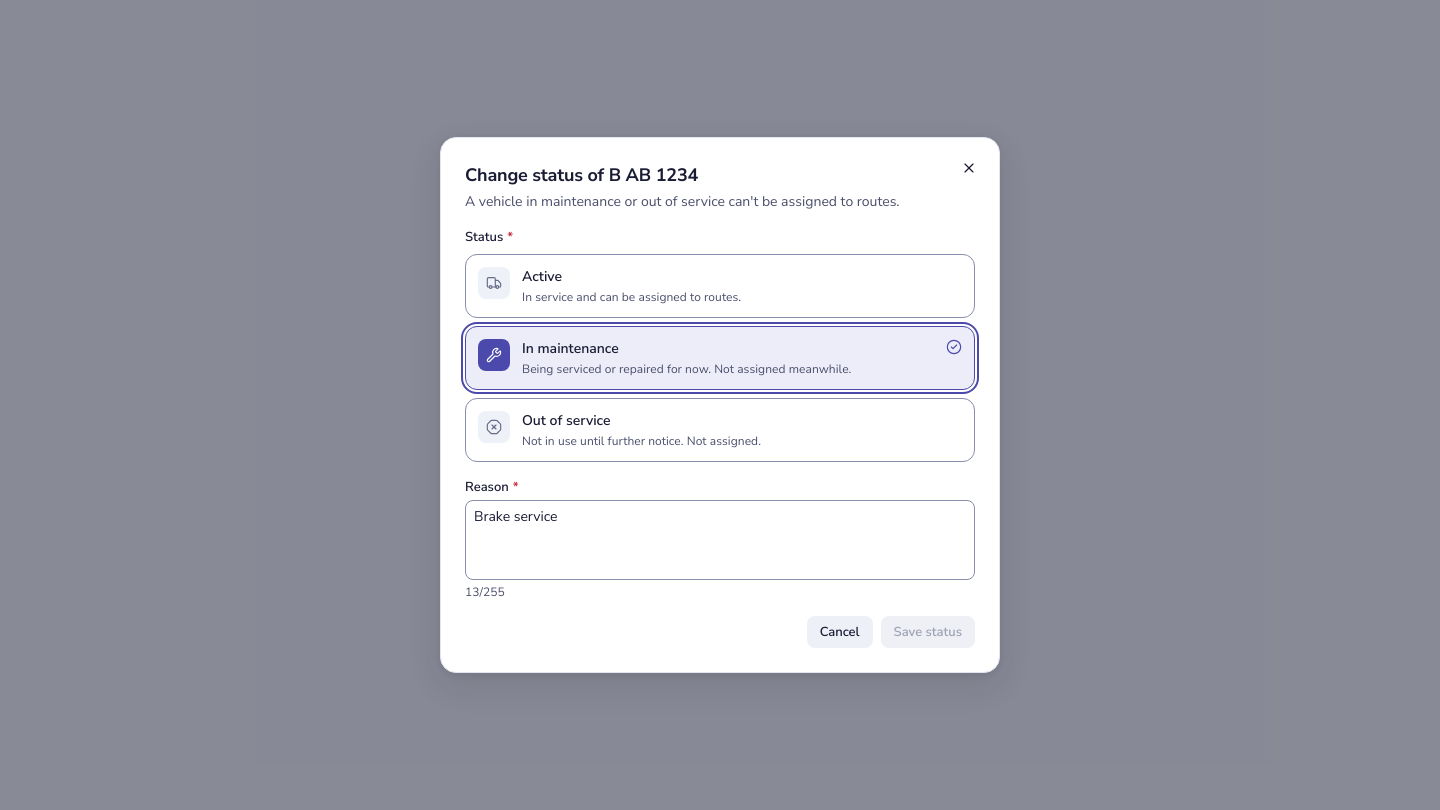
Test case: VehicleStatusDialog › says when only the reason changed
Step 1. Replace the text in the text box labelled "Reason*" with "New reason" → (720, 540), box [465,500,975,580]
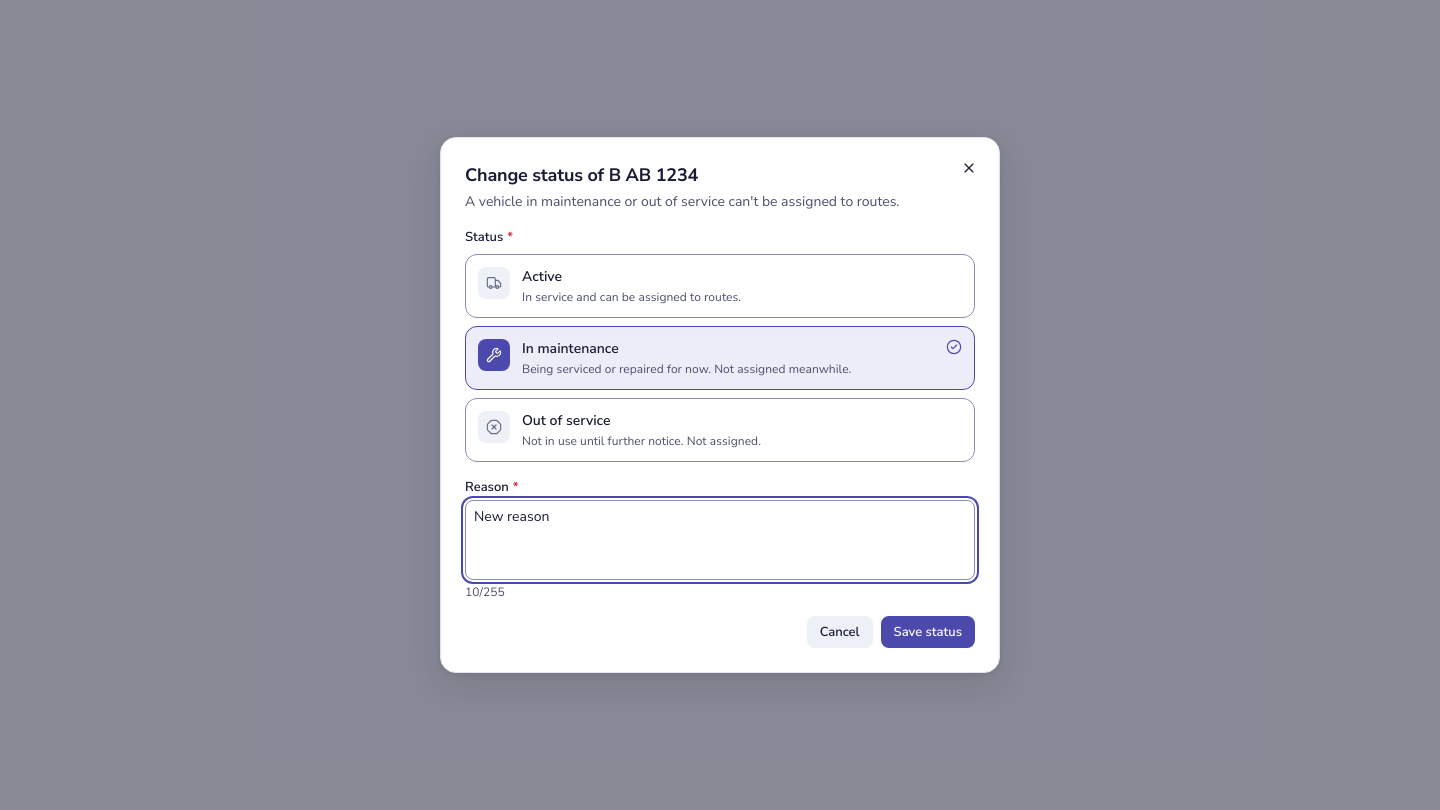
Step 2. Click the button "Save status" → (928, 632), box [881,616,975,648]
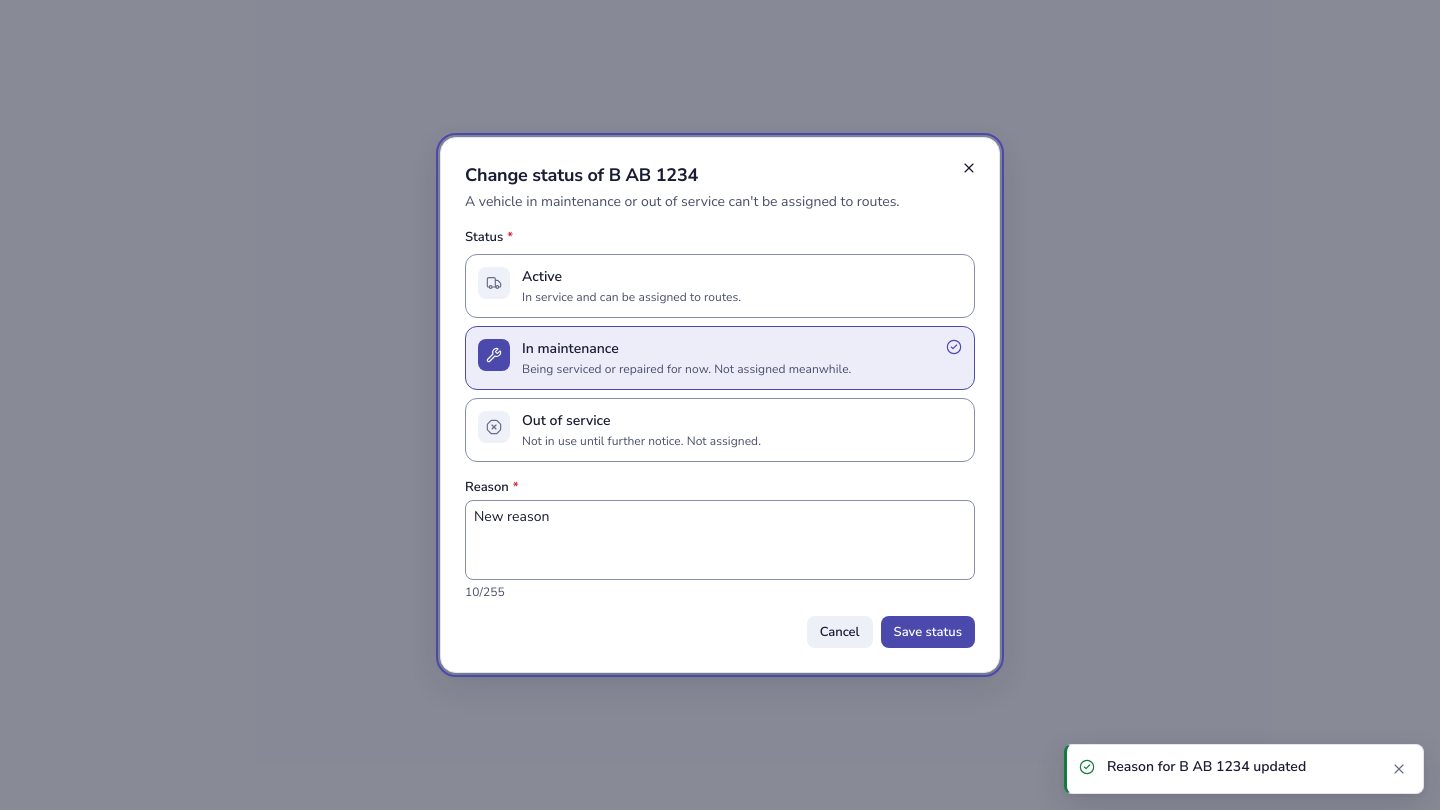
Now the text "Reason for B AB 1234 updated" is shown, box [1107,757,1306,776]
